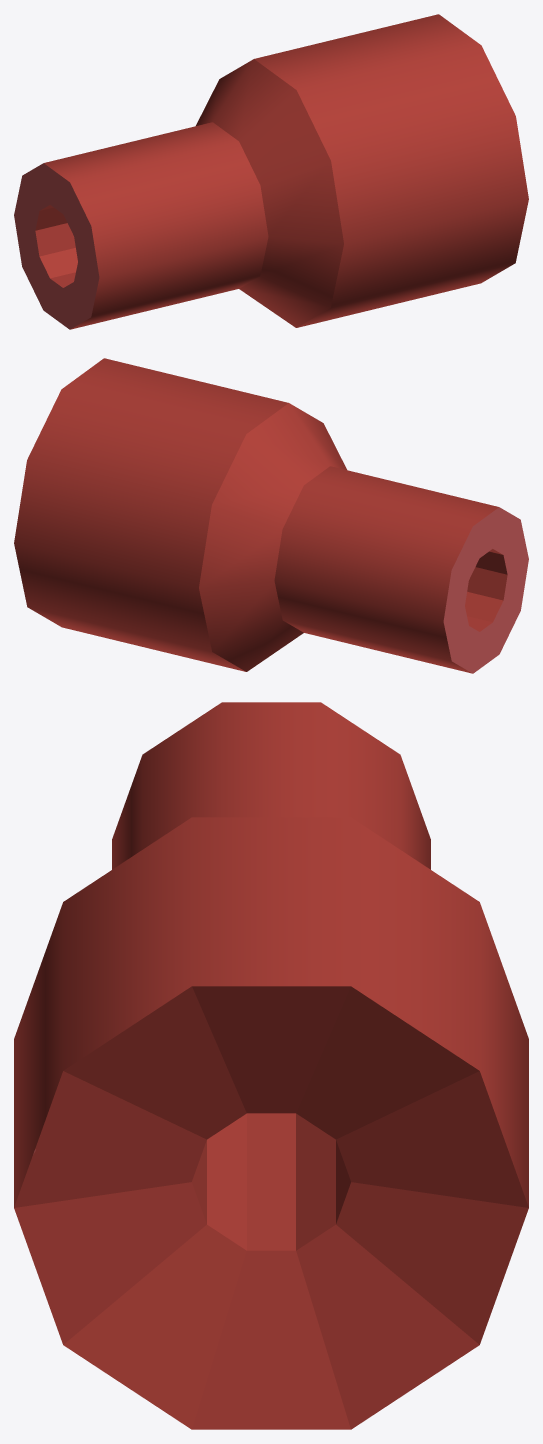
Rendered from RedTurret.obj.
The picture shows the model from 3 angles, top to bottom: view 1: azimuth 30°, elevation 25°; view 2: azimuth 150°, elevation 25°; view 3: azimuth 270°, elevation 25°; orthographic projection. The views are drawn at different scales.
Parts seen in each view (by area): view 1: polySurface4; view 2: polySurface4; view 3: polySurface4.
Part boxes in pixels (left/top/right/bottom): polySurface4: left=14, top=14, right=528, bottom=329; polySurface4: left=14, top=358, right=528, bottom=673; polySurface4: left=14, top=702, right=528, bottom=1429.
Bounding box in the file's own units: 0.9476 × 0.5345 × 0.5613.
Materials: 1 (1 with a texture image).
